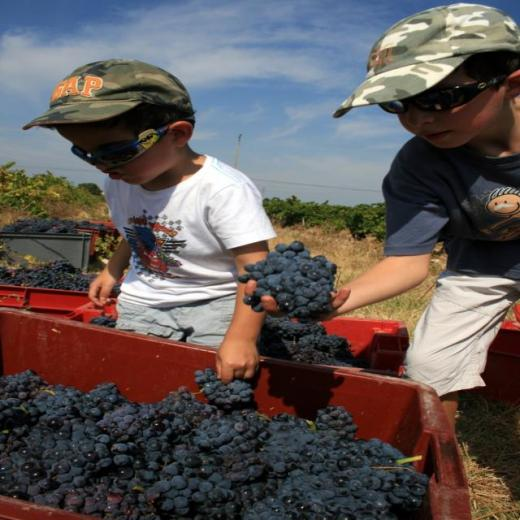Orange: (0, 365, 427, 520), (237, 240, 344, 317), (258, 315, 351, 362), (0, 259, 119, 293), (0, 215, 106, 233), (88, 315, 114, 329)
